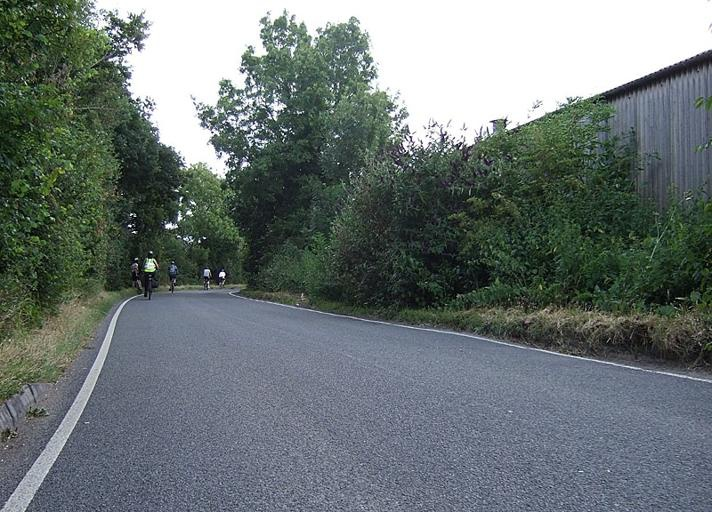non-vehicle: (142, 268, 161, 301), (167, 271, 179, 293), (133, 269, 142, 294), (202, 276, 213, 290), (218, 277, 225, 288)
